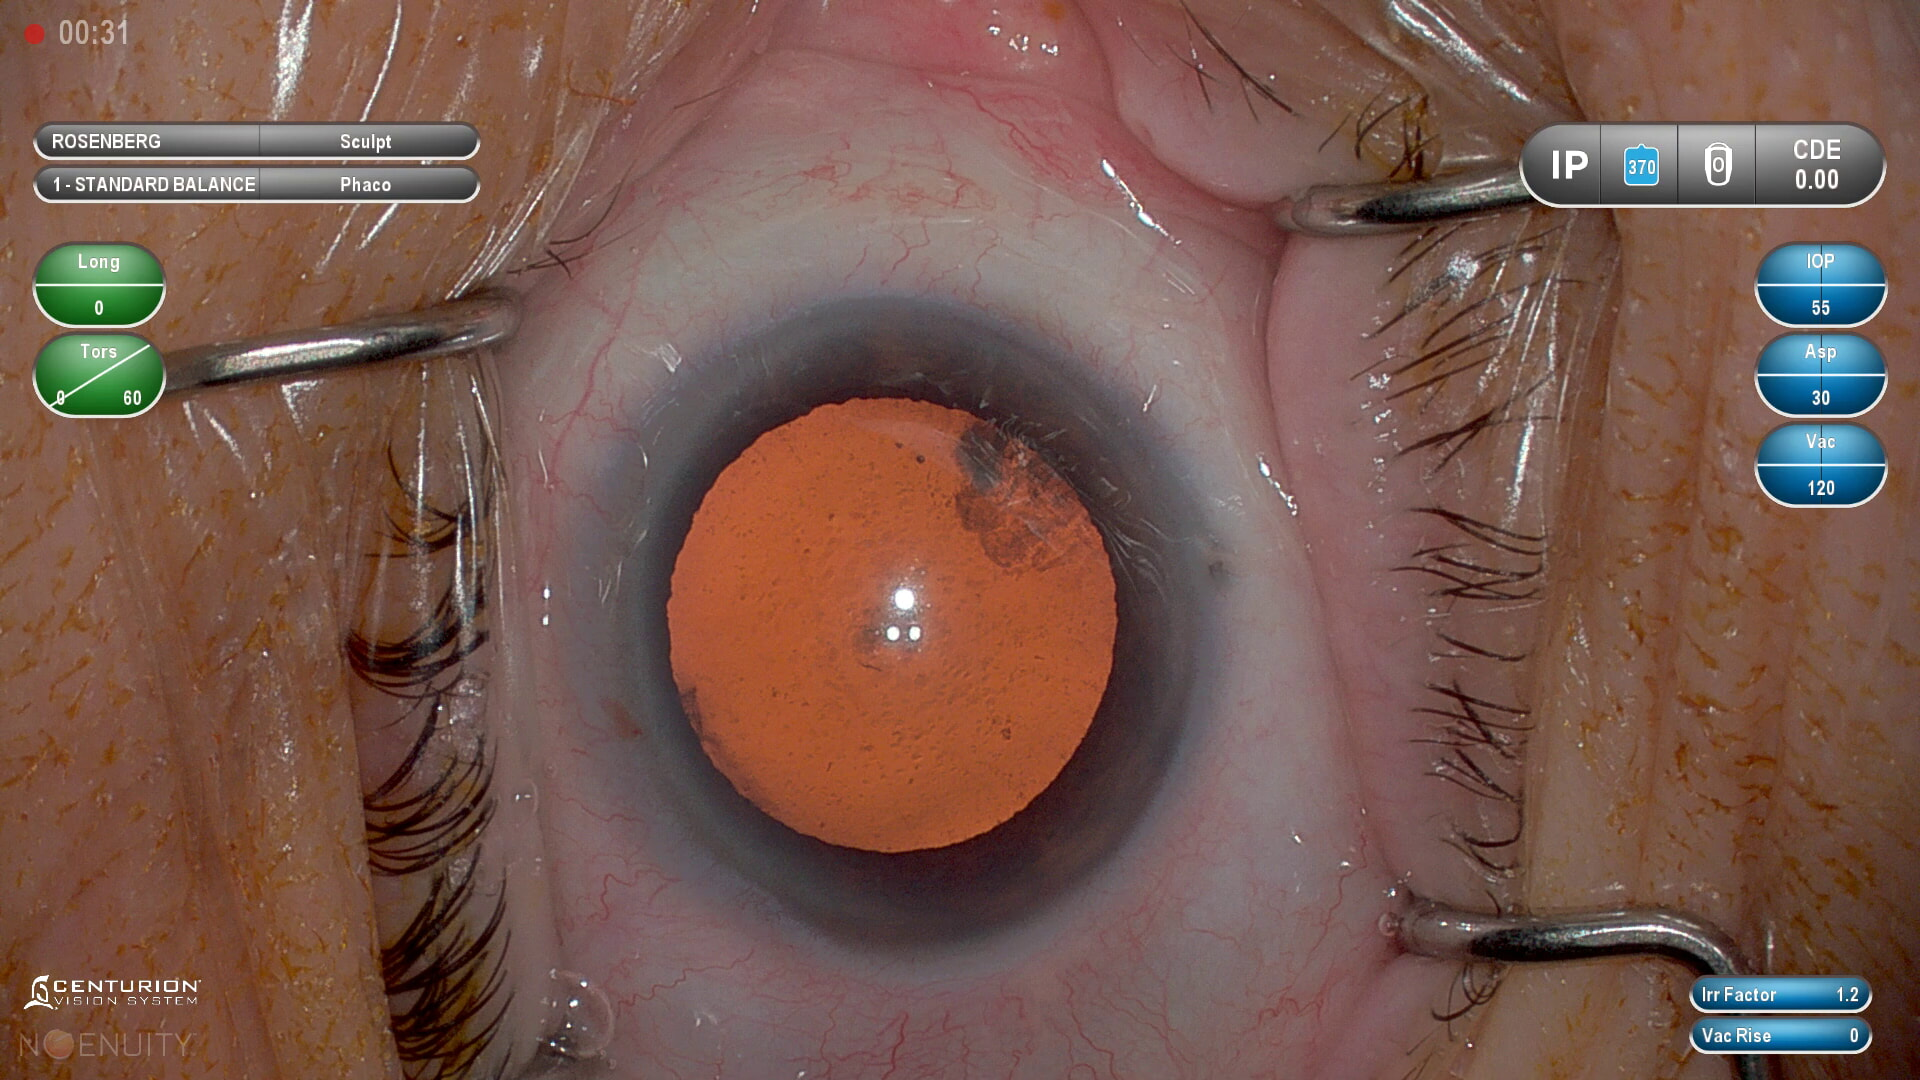iris: (581, 312, 1193, 943)
pupil: (664, 390, 1115, 860)
